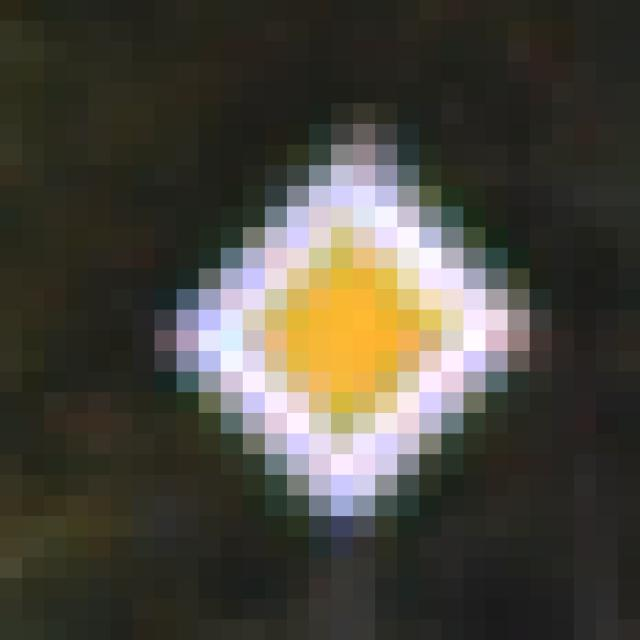Main Road: (111, 104, 531, 517)
